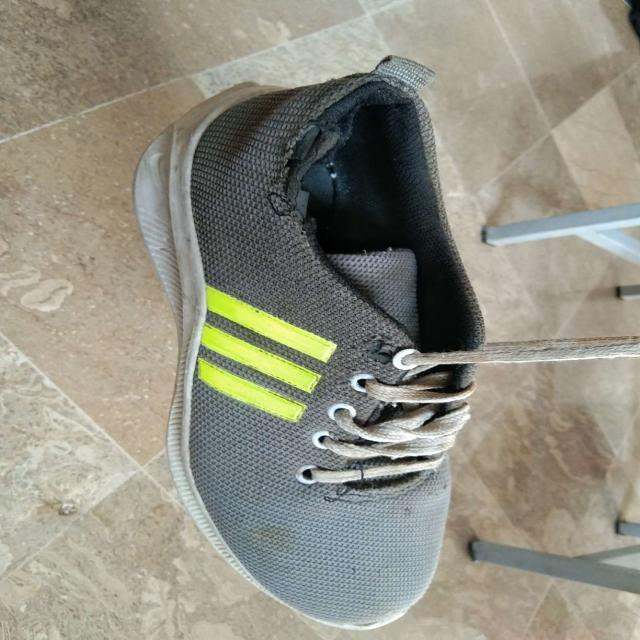shoes: (129, 54, 486, 632)
